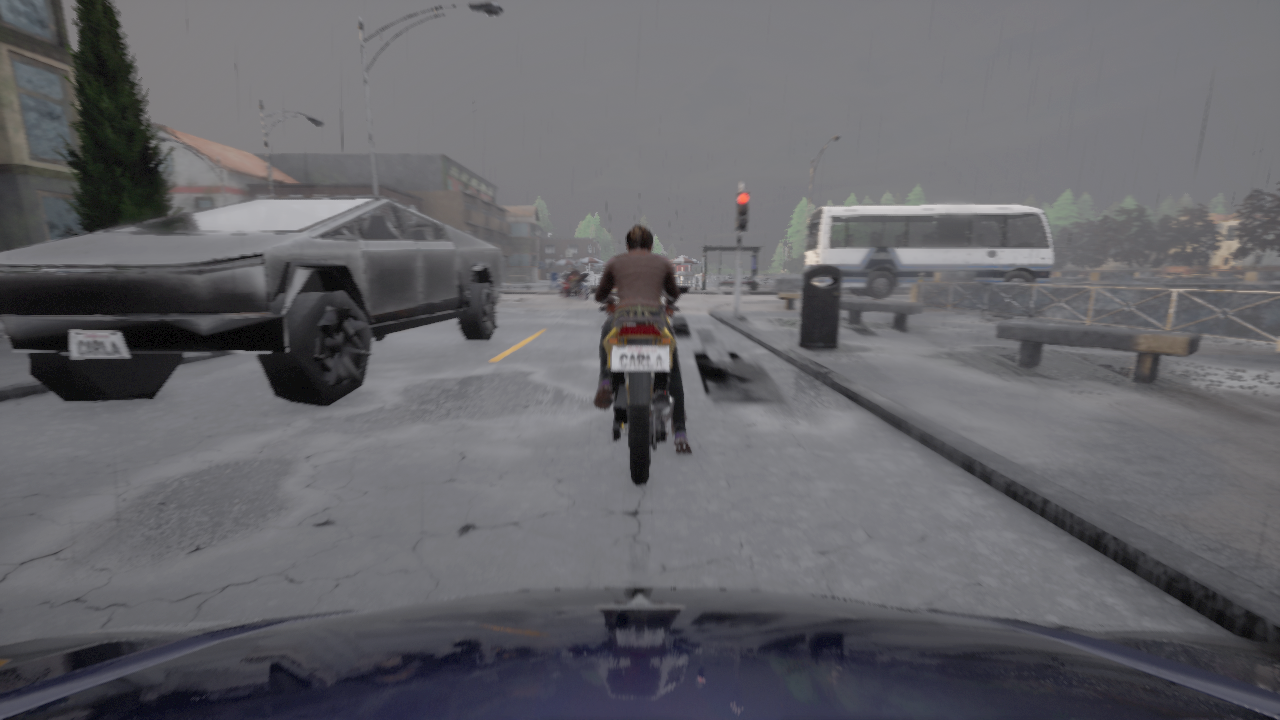cyclist: (0, 588, 1279, 719), (0, 196, 500, 407), (804, 204, 1070, 299), (589, 286, 688, 485), (557, 273, 590, 300)
pedestrian: (918, 273, 924, 282), (613, 286, 616, 291)
